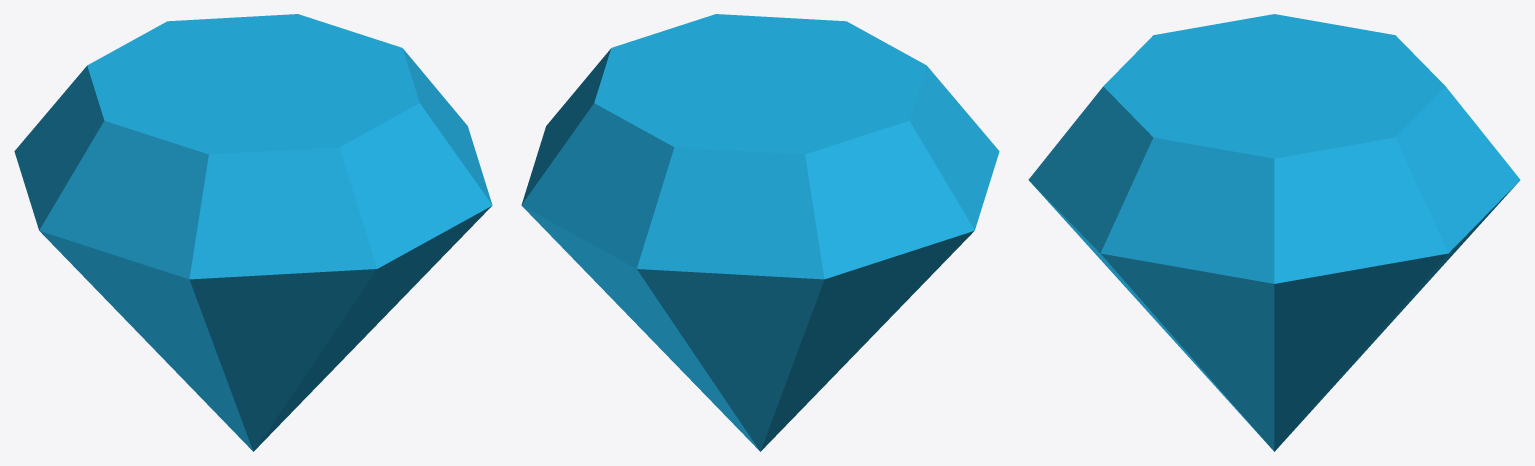
The model's file is Gem_V1_01.fbx.
The picture shows the model from 3 angles, left to right: view 1: azimuth 30°, elevation 25°; view 2: azimuth 150°, elevation 25°; view 3: azimuth 270°, elevation 25°; orthographic projection.
Parts seen in each view (by area): view 1: Gem_V1_00; view 2: Gem_V1_00; view 3: Gem_V1_00.
Boxes of the visible parts, x1,y1,x2,y2 form: Gem_V1_00: (14,14,492,451); Gem_V1_00: (521,14,999,451); Gem_V1_00: (1028,14,1520,451).
Size of the model in its own units: 2 by 1.64 by 2.
